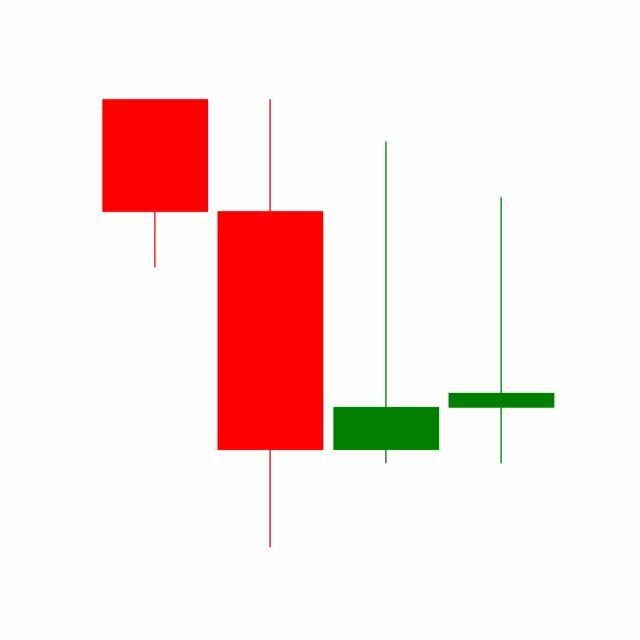Gravestone Doji: (329, 138, 445, 468)
